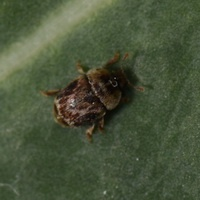insect: (40, 51, 137, 142)
